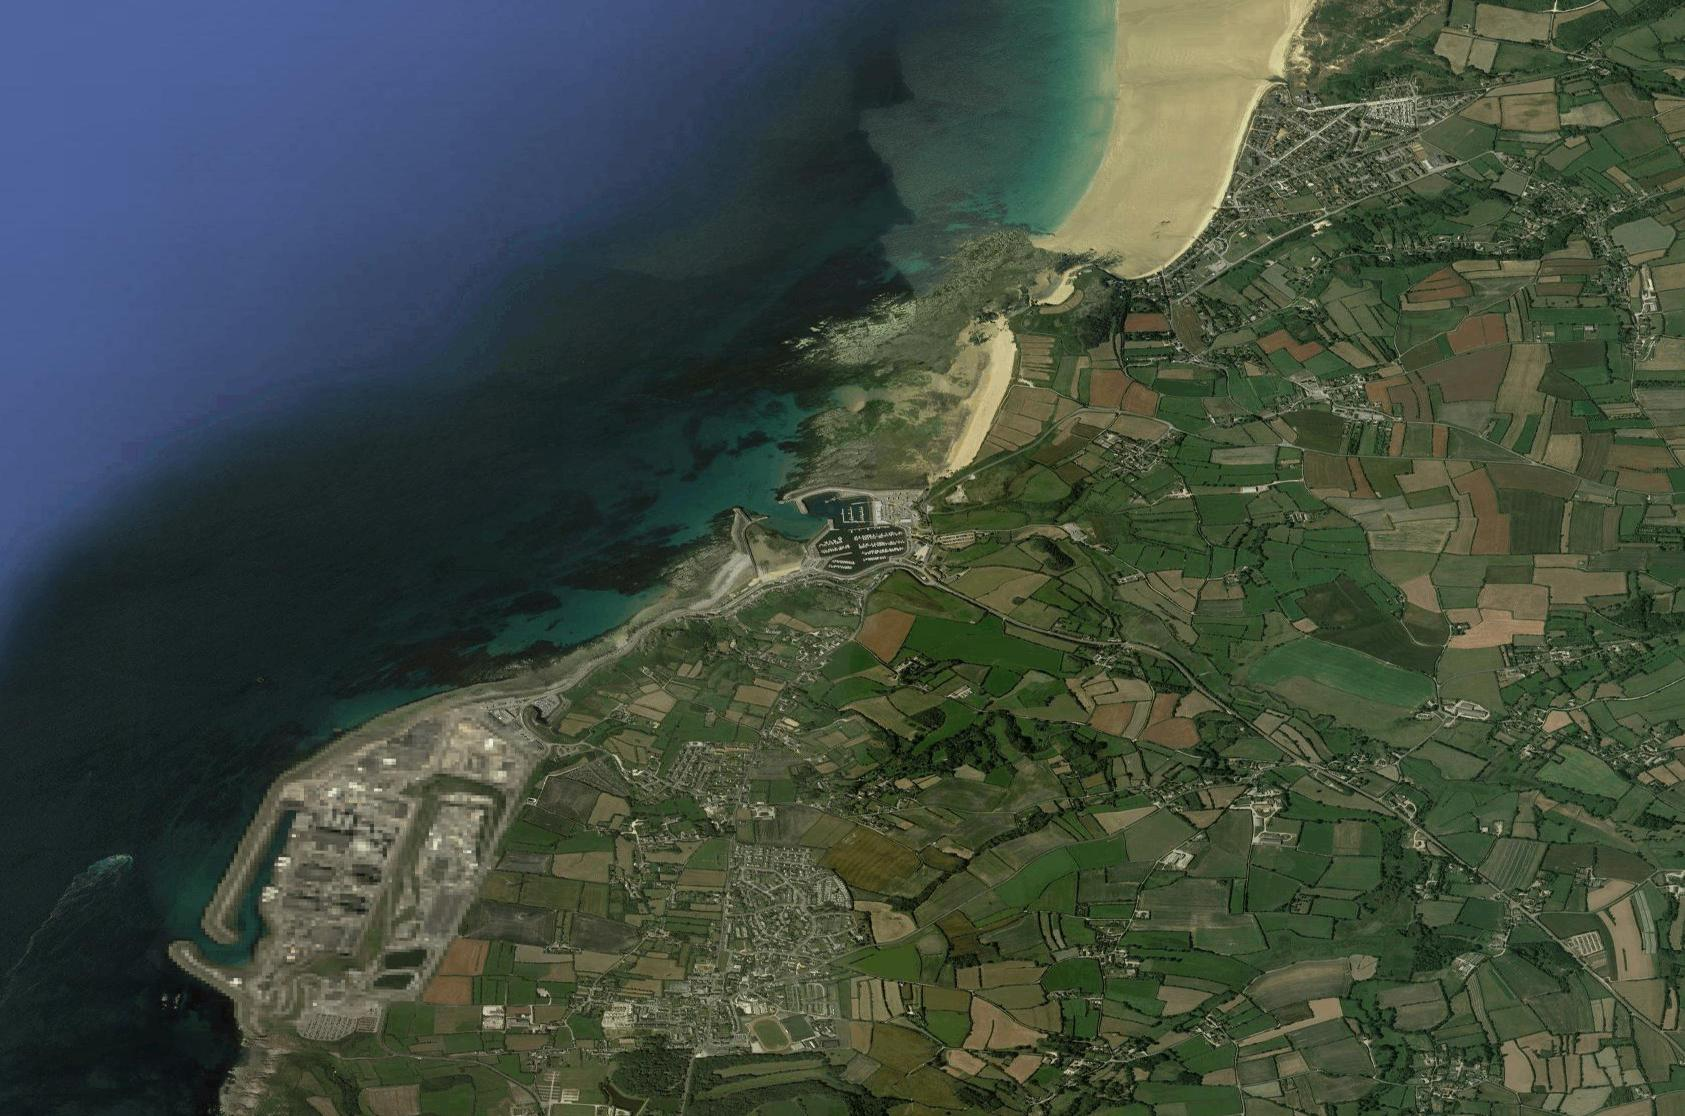harbor: (780, 478, 917, 588)
